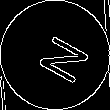N_NW: (23, 25, 87, 85)
